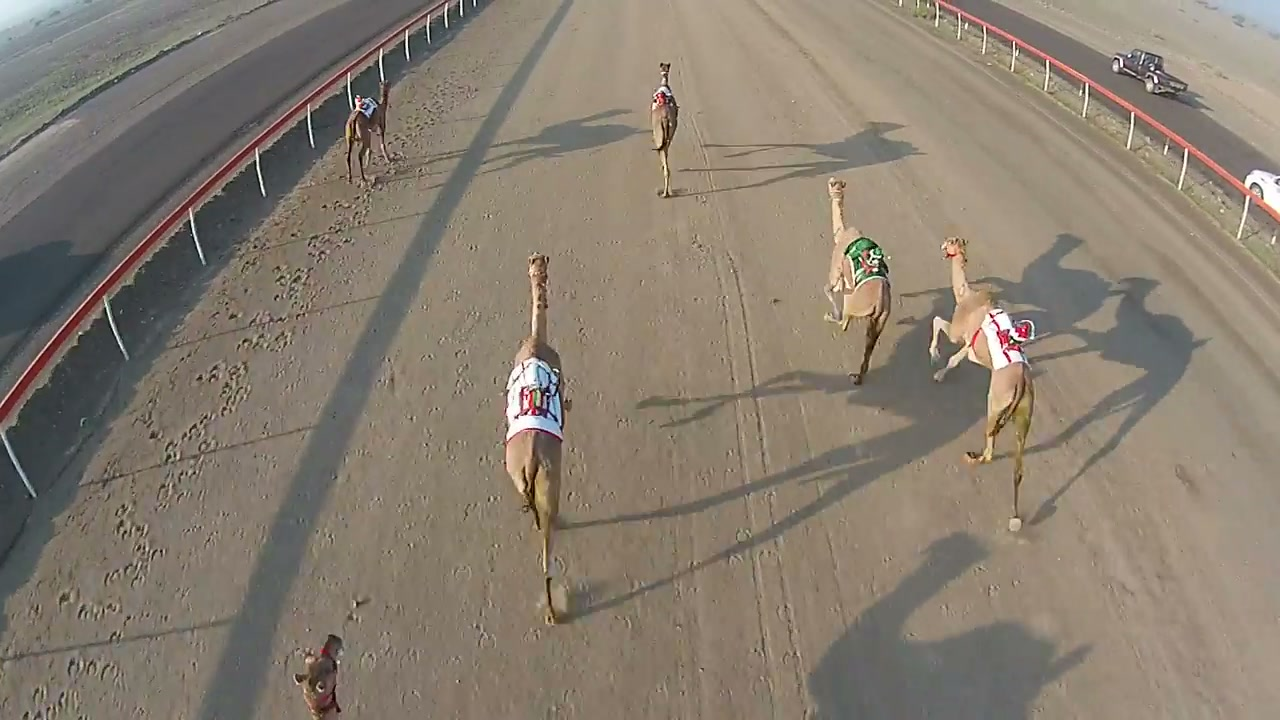animal_foot_print: (37, 160, 417, 718), (428, 308, 595, 706)
